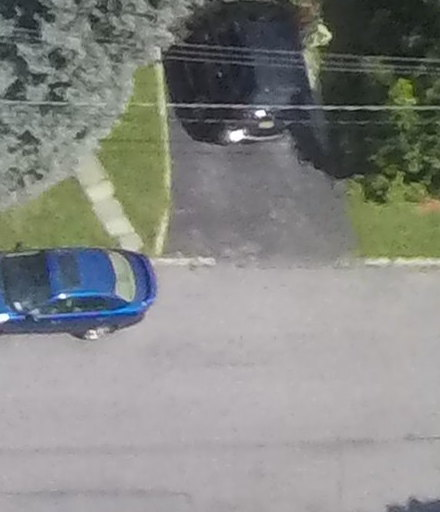car: (178, 1, 307, 170), (1, 230, 164, 353)
driveway: (161, 1, 371, 268)
street: (1, 270, 438, 509)
